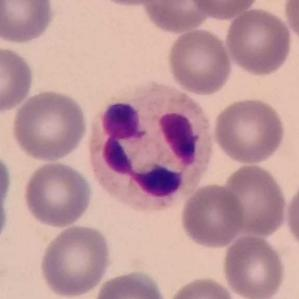Neutrophil: (82, 80, 214, 216)
RBC: (10, 87, 90, 163), (38, 223, 113, 299), (210, 96, 288, 166), (219, 162, 288, 239), (223, 6, 294, 78), (21, 159, 94, 229), (165, 27, 234, 97), (178, 182, 246, 250), (220, 232, 287, 299), (0, 42, 36, 115), (0, 0, 56, 45), (140, 0, 212, 34), (91, 268, 169, 299), (164, 274, 238, 299), (187, 0, 260, 20), (0, 148, 14, 251), (283, 172, 299, 254), (281, 0, 299, 46), (92, 0, 169, 8)
